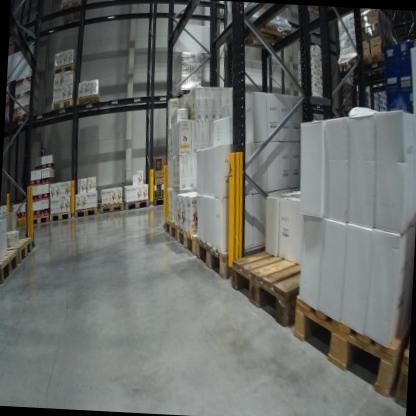pallet: (289, 271, 411, 399), (228, 242, 323, 333), (191, 228, 297, 285), (227, 12, 293, 52), (174, 221, 201, 259), (3, 235, 32, 270), (396, 334, 409, 409), (0, 247, 22, 289), (73, 89, 108, 115), (59, 0, 86, 28), (121, 192, 152, 211), (355, 50, 385, 69), (98, 196, 123, 217), (46, 206, 73, 225), (161, 216, 178, 246), (51, 62, 80, 79), (12, 107, 36, 127), (335, 54, 355, 75), (51, 96, 74, 114), (74, 201, 97, 218), (151, 193, 169, 213), (30, 215, 48, 229)
